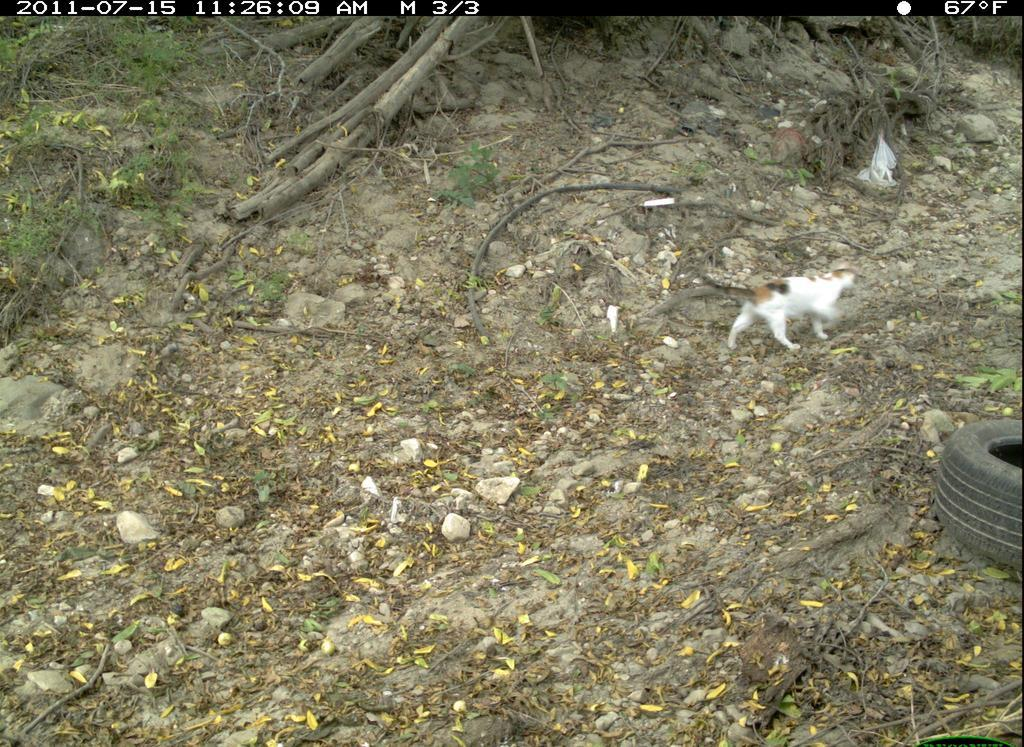cat: (675, 250, 899, 365)
